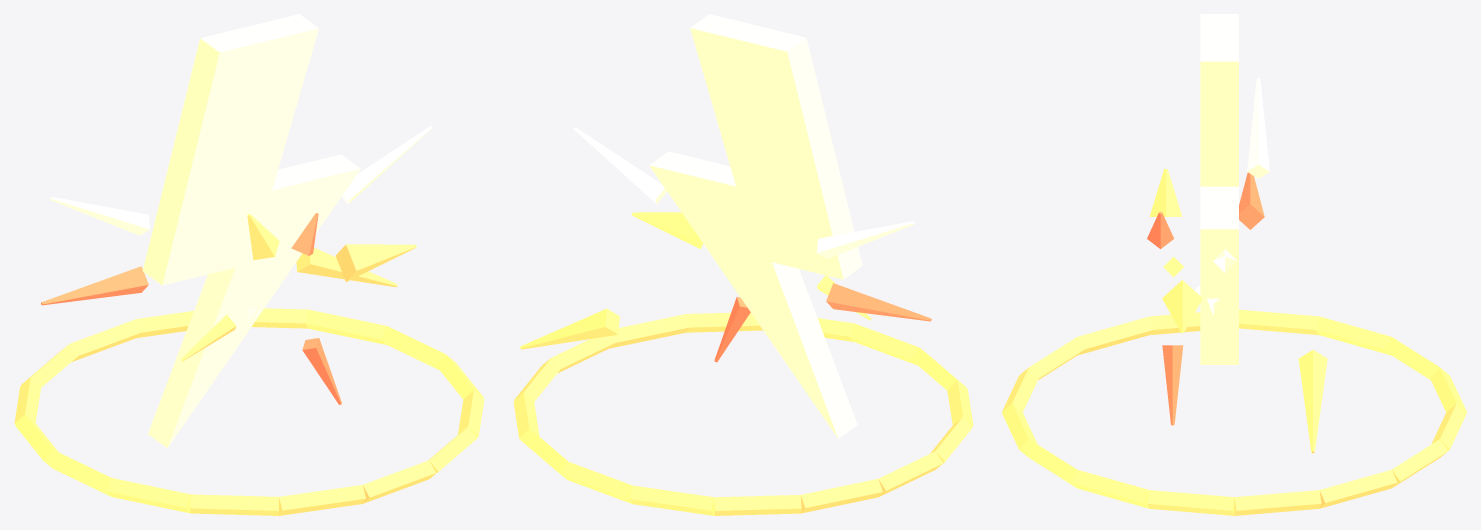
The model's file is orbital.glb.
The picture shows the model from 3 angles, left to right: view 1: azimuth 30°, elevation 25°; view 2: azimuth 150°, elevation 25°; view 3: azimuth 270°, elevation 25°; orthographic projection. The views are drawn at different scales.
Visible parts, largest first — view 1: Orbital Strike dimensional effect.001; view 2: Orbital Strike dimensional effect.001; view 3: Orbital Strike dimensional effect.001.
Part boxes in pixels (box(x1,y1,x2,y2)): Orbital Strike dimensional effect.001: box(14, 14, 484, 515); Orbital Strike dimensional effect.001: box(513, 14, 973, 515); Orbital Strike dimensional effect.001: box(1002, 14, 1466, 515).
Size of the model in its own units: 1.57 by 1.43 by 1.57.
